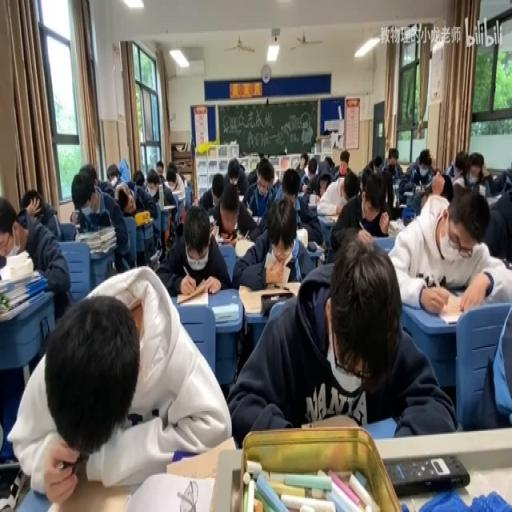calculator: (42, 466, 132, 512), (123, 469, 216, 512), (166, 434, 234, 479), (238, 280, 300, 314), (434, 292, 467, 322), (177, 287, 208, 306), (212, 302, 238, 324), (234, 236, 256, 258), (88, 210, 110, 230), (214, 232, 235, 246), (295, 224, 307, 248), (486, 191, 504, 206), (388, 218, 404, 234), (307, 239, 325, 252), (148, 247, 160, 266), (392, 182, 400, 206), (209, 222, 219, 239), (320, 213, 338, 222), (308, 194, 318, 206), (251, 214, 261, 224), (478, 183, 486, 195), (404, 189, 414, 198), (161, 204, 176, 210), (208, 215, 215, 226), (237, 193, 245, 202), (398, 202, 406, 209), (182, 175, 187, 186)
paper: (12, 266, 230, 499), (228, 234, 450, 442), (386, 184, 510, 312), (1, 192, 70, 324), (232, 192, 312, 287), (155, 202, 229, 296), (70, 165, 129, 274), (464, 293, 510, 429), (328, 168, 390, 253), (130, 169, 164, 259), (399, 146, 436, 205), (451, 152, 483, 196), (196, 171, 226, 212), (224, 154, 249, 198), (483, 162, 510, 196), (0, 219, 22, 259), (164, 162, 186, 199), (298, 156, 318, 195), (116, 181, 138, 216), (281, 166, 300, 202), (382, 148, 404, 179), (332, 150, 351, 180), (245, 158, 260, 183), (344, 175, 358, 200), (106, 164, 120, 188), (146, 170, 160, 194), (16, 210, 28, 229), (155, 159, 165, 181), (132, 168, 144, 185), (443, 161, 453, 176), (373, 154, 382, 170), (324, 155, 334, 169), (272, 168, 278, 185), (258, 152, 265, 159)
person: (383, 452, 469, 494), (0, 460, 22, 500), (264, 282, 290, 288)
